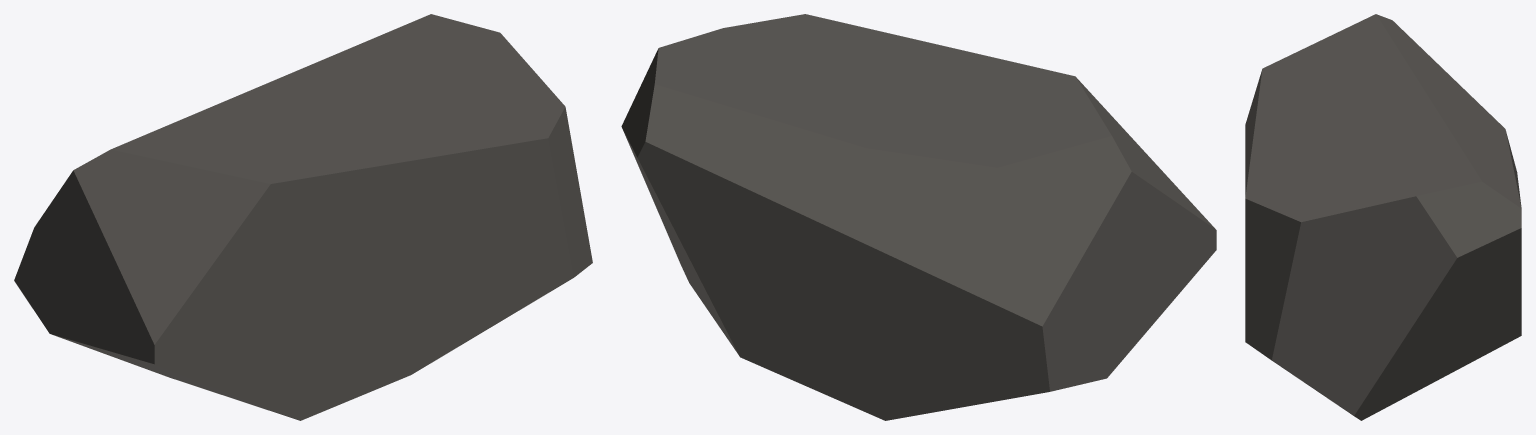
The model's file is stone_dark_gray_1.fbx.
3 renders of one model, left to right at view 1: azimuth 30°, elevation 25°; view 2: azimuth 150°, elevation 25°; view 3: azimuth 270°, elevation 25°, orthographic. The views are drawn at different scales.
Visible parts, largest first — view 1: Cube.006; view 2: Cube.006; view 3: Cube.006.
Part boxes in pixels (x1,y1,x2,y2): Cube.006: (14,14,592,420); Cube.006: (621,14,1216,420); Cube.006: (1245,14,1521,420).
Bounding box in the file's own units: 200 × 104 × 117.
